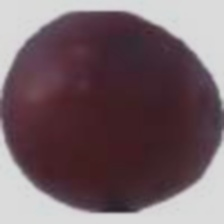grapes: (50, 0, 188, 191)
